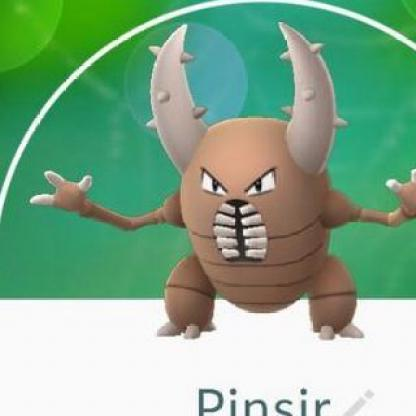Pinsir: (56, 26, 416, 359)
